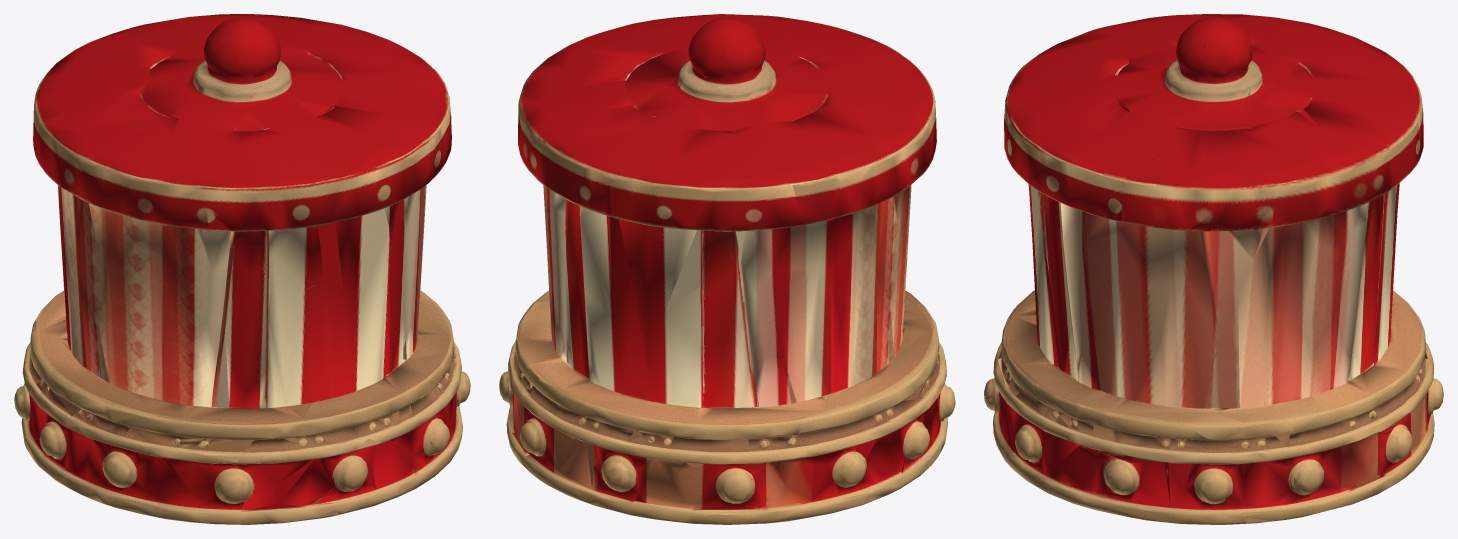
File: RedButton.fbx
3 renders of one model, left to right at view 1: azimuth 30°, elevation 25°; view 2: azimuth 150°, elevation 25°; view 3: azimuth 270°, elevation 25°, orthographic.
Visible parts, largest first — view 1: Mesh_0; view 2: Mesh_0; view 3: Mesh_0.
Boxes of the visible parts, left/top/right/bottom form: Mesh_0: left=14, top=14, right=470, bottom=524; Mesh_0: left=499, top=14, right=955, bottom=524; Mesh_0: left=984, top=14, right=1443, bottom=524.
Bounding box in the file's own units: 190 × 188 × 190.
Materials: 1 (1 with a texture image).
